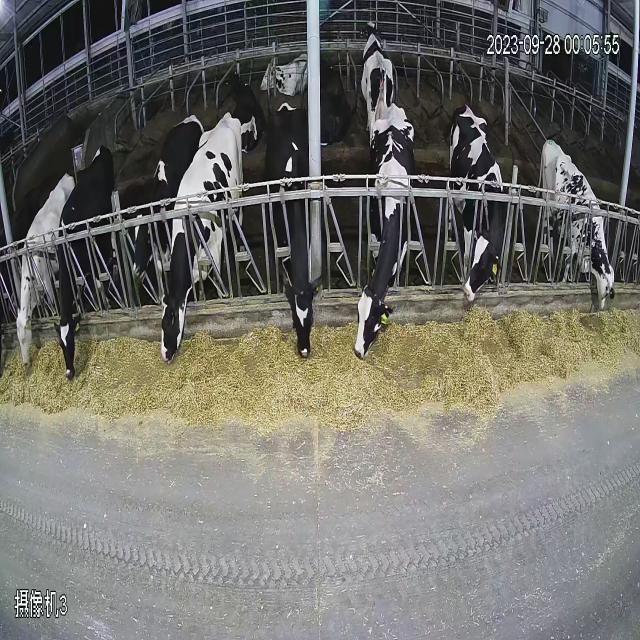feeding: (532, 119, 632, 359), (158, 127, 245, 402), (266, 94, 328, 383), (353, 120, 422, 370), (439, 100, 510, 330), (58, 154, 119, 413), (14, 150, 51, 388)
lying down: (258, 44, 314, 103), (233, 64, 266, 158)
standing: (360, 13, 412, 164)
